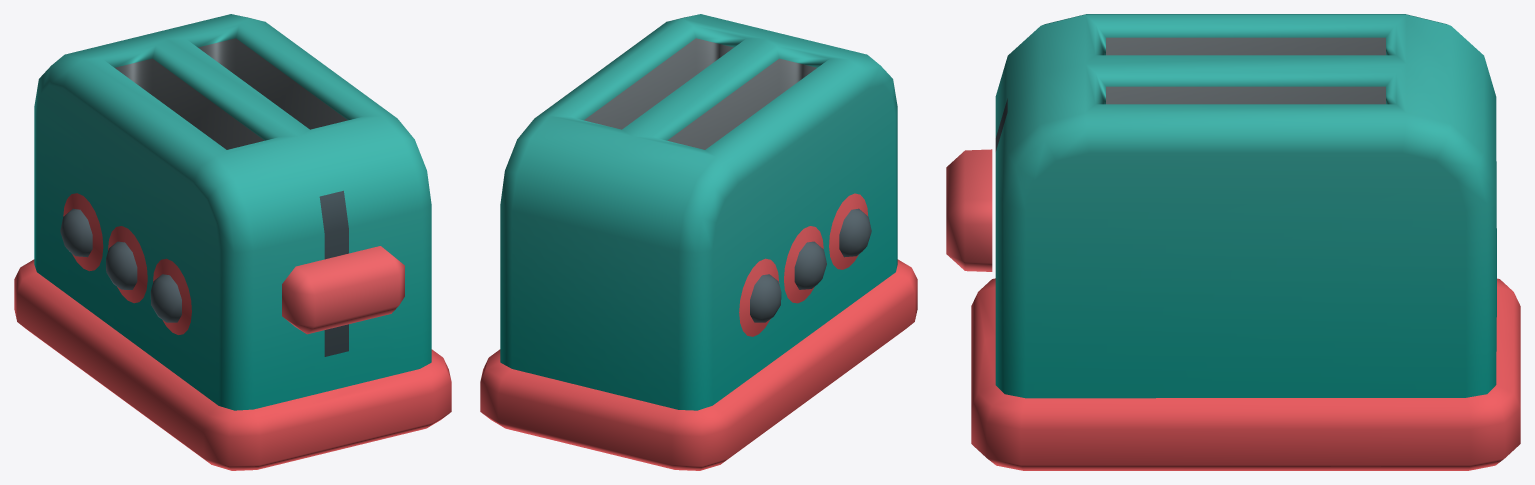
The model's file is Toaster_02.glb.
3 renders of one model, left to right at view 1: azimuth 30°, elevation 25°; view 2: azimuth 150°, elevation 25°; view 3: azimuth 270°, elevation 25°, orthographic. The views are drawn at different scales.
Visible parts, largest first — view 1: Toaster_02; view 2: Toaster_02; view 3: Toaster_02.
Part boxes in pixels (bbox=[...]): Toaster_02: bbox=[14, 14, 451, 470]; Toaster_02: bbox=[480, 14, 917, 470]; Toaster_02: bbox=[946, 14, 1520, 470].
Size of the model in its own units: 0.1633 by 0.1787 by 0.2735.
1 material, 1 textured.
